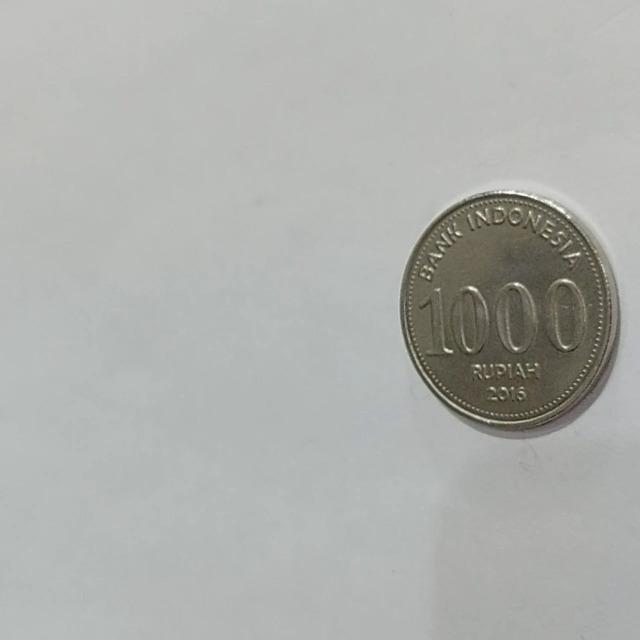Rp100: (397, 187, 620, 437)
